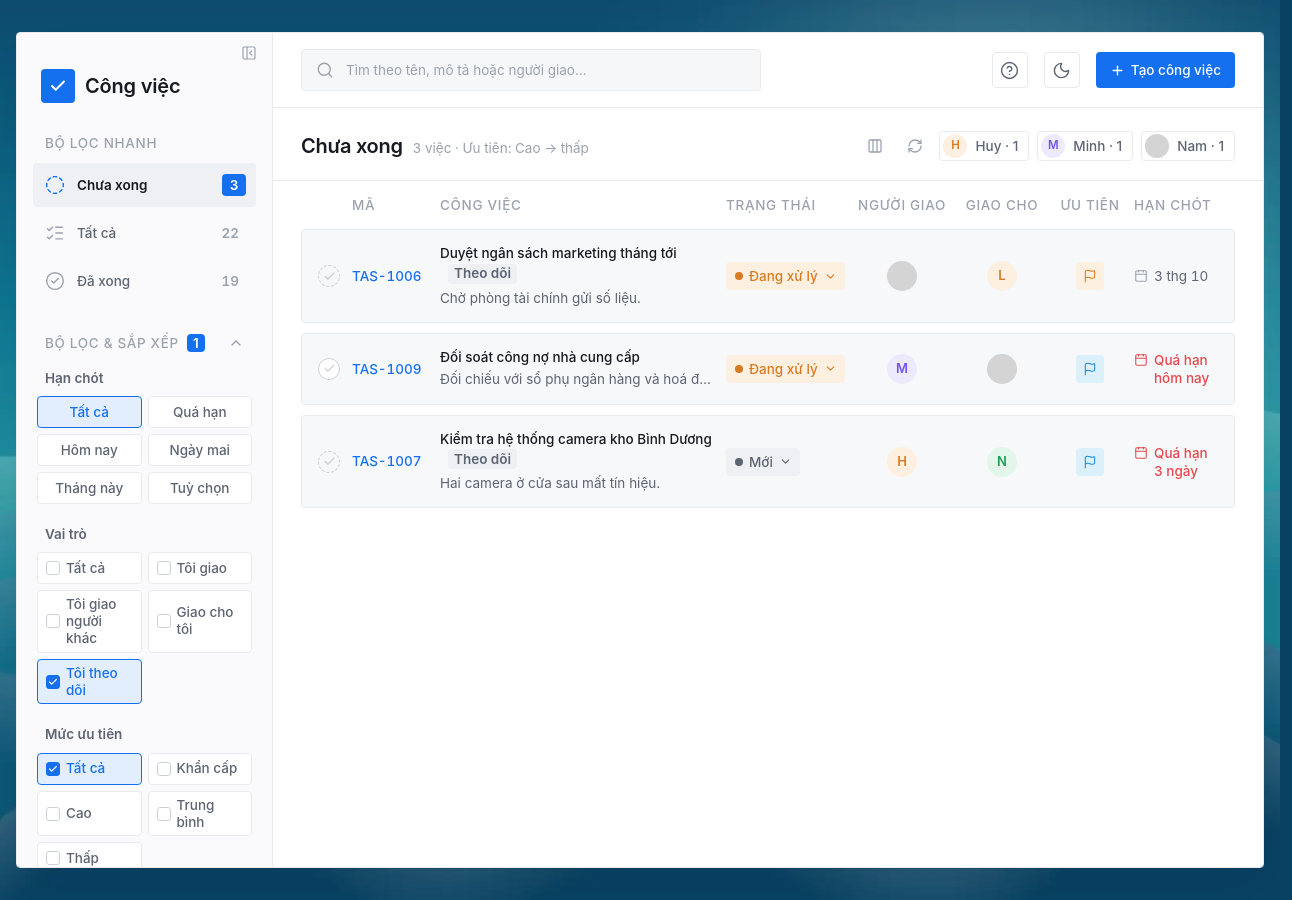
Mức ưu tiên: multi-select priority filter › shows the "no match" state when no task has the ticked priority
Click the checkbox with test id "prio-filter-urgent".
click(200, 769)  # box [148,753,252,785]
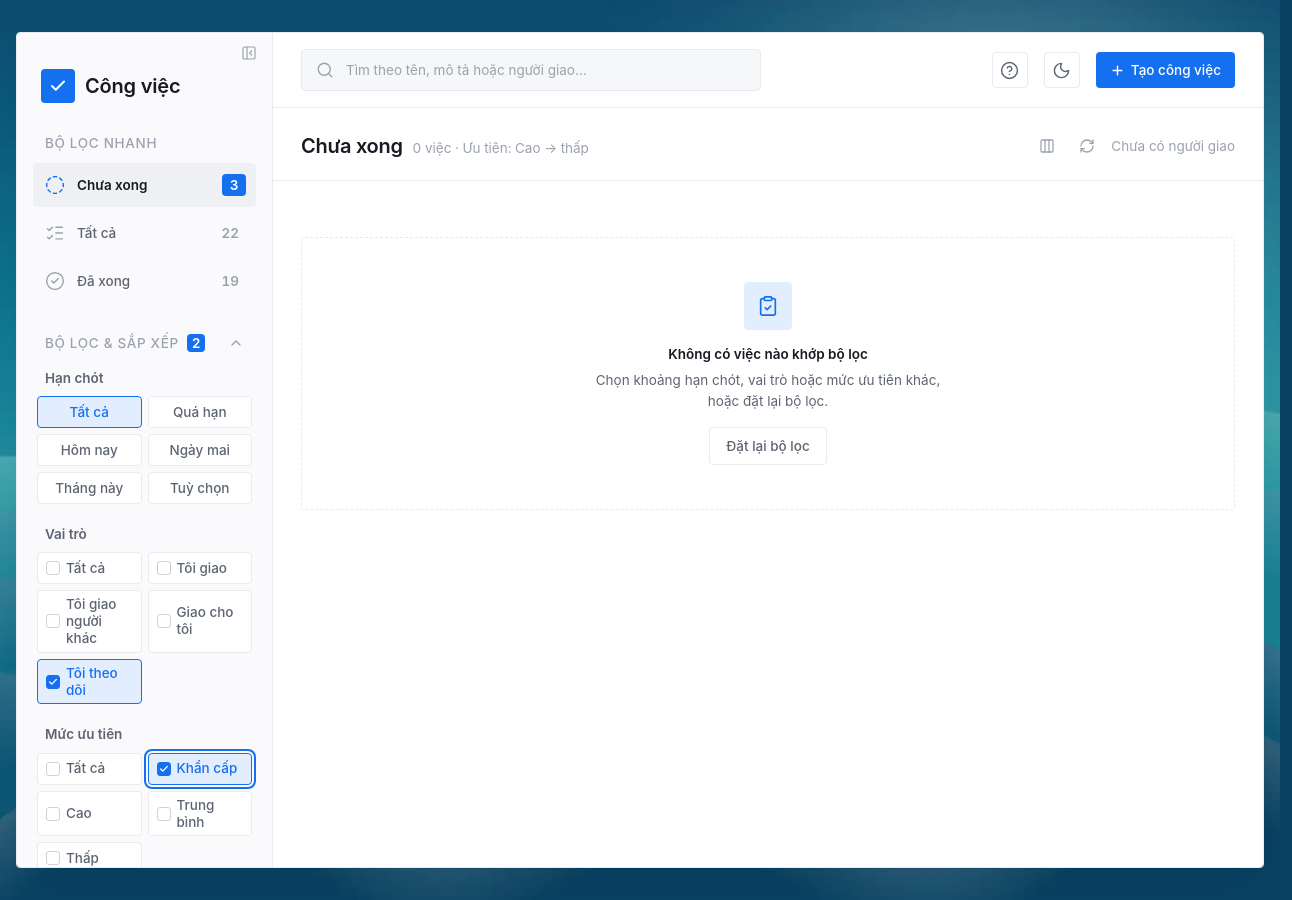
Expected: the element with test id "empty-state" shows "Không có việc nào khớp bộ lọc", [668,346,868,362]
Expected: the element with test id "empty-state" shows "mức ưu tiên", [596,372,940,409]
Click the button "Đặt lại bộ lọc".
click(768, 446)  # box [709,427,827,465]
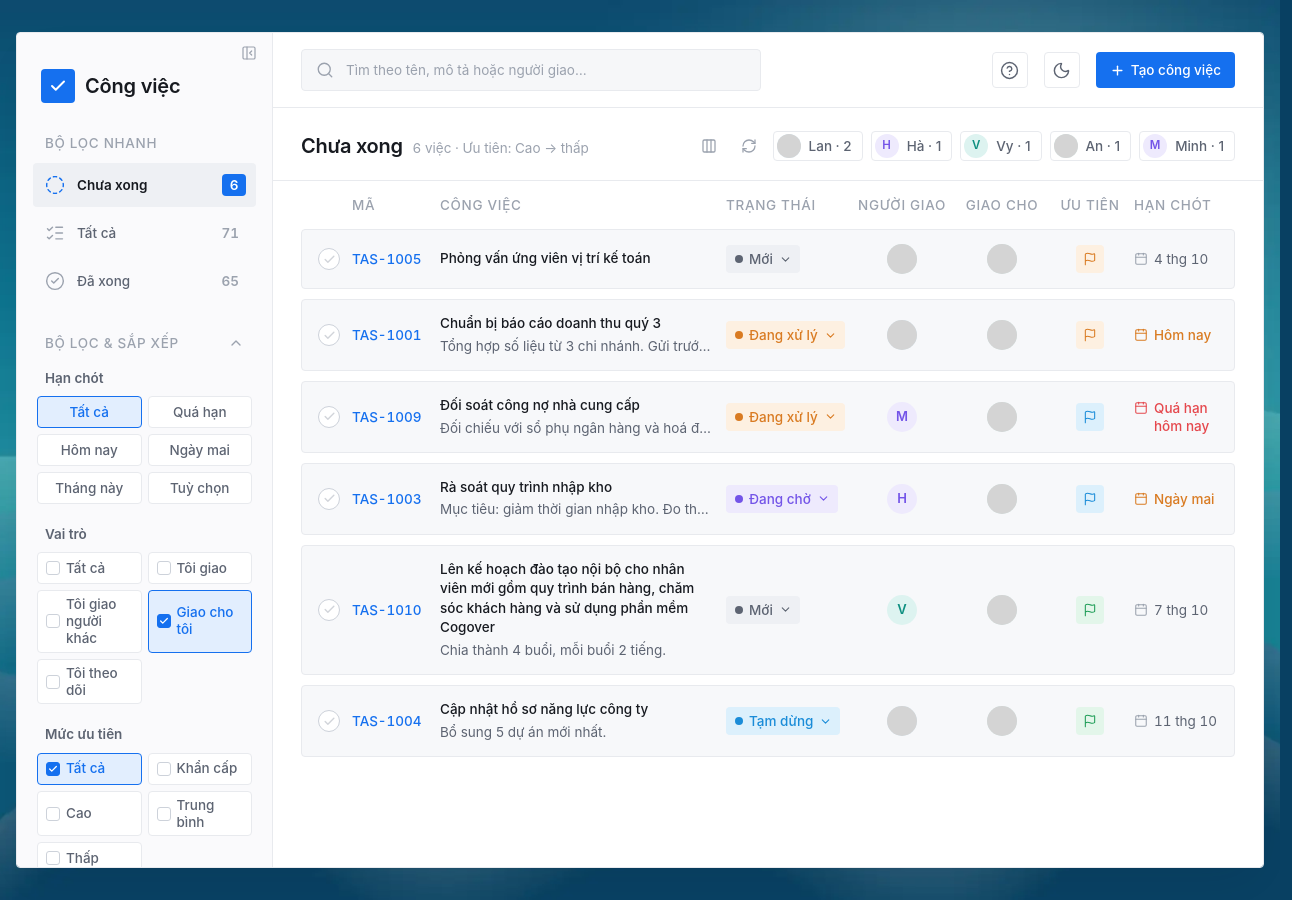
Expected: the checkbox with test id "prio-filter-all" is checked, [37,753,142,785]
